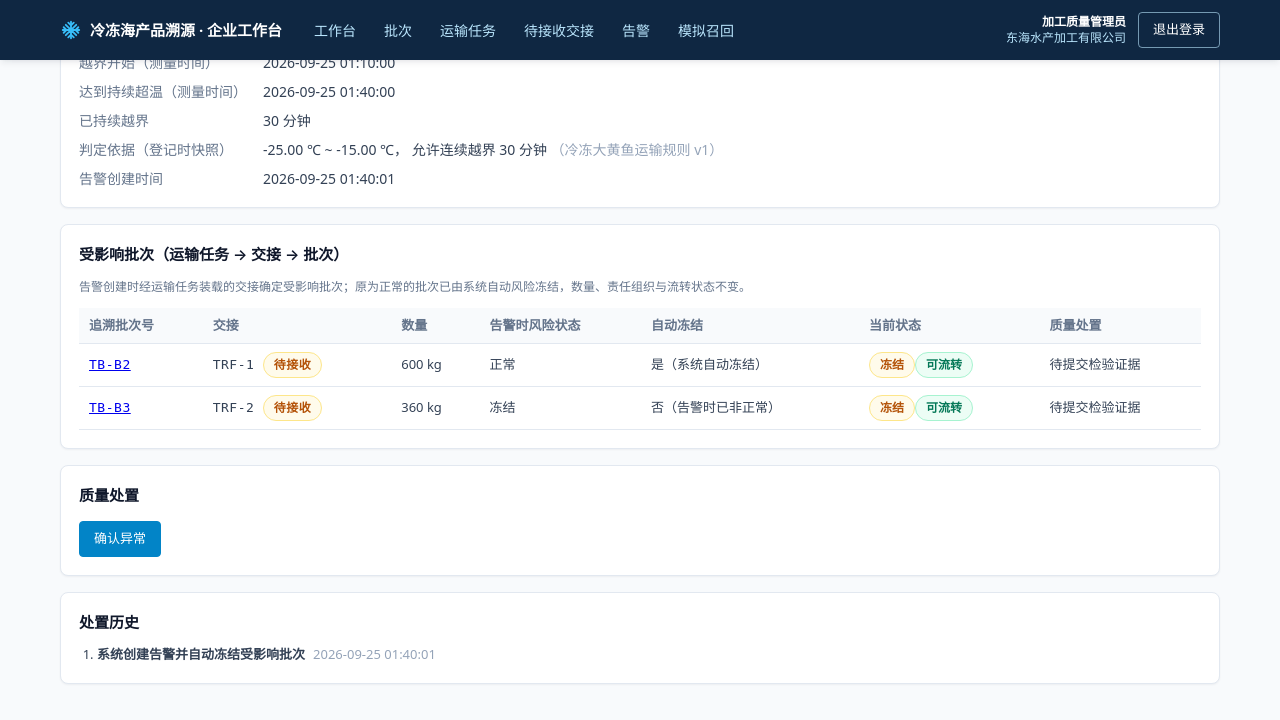
Test case: AlertDetailView › acknowledges after a second confirmation with CSRF + Idempotency-Key and a note-only body
(page scrolled)
Click the button with test id "alert-ack-open": (120, 538) [79,520,161,556]
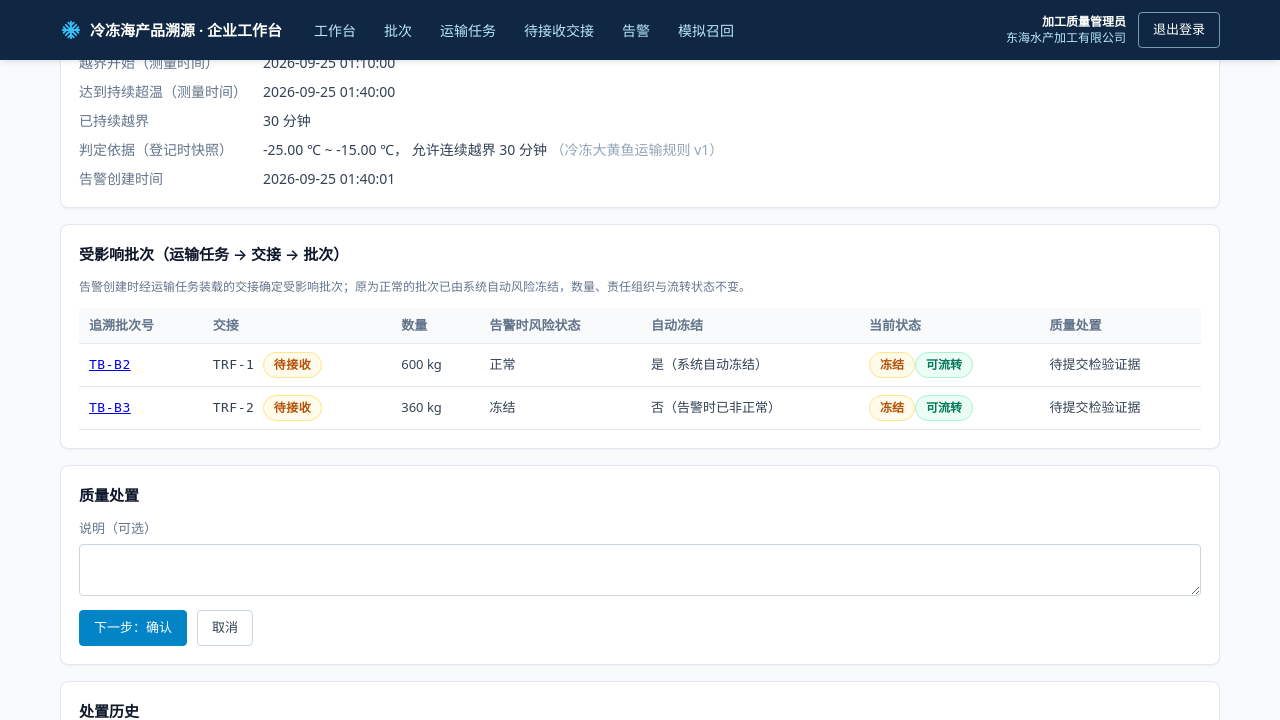
In the text box with test id "field-alert-ack-note": (640, 570) [79,544,1201,596], type "  安排复检  "
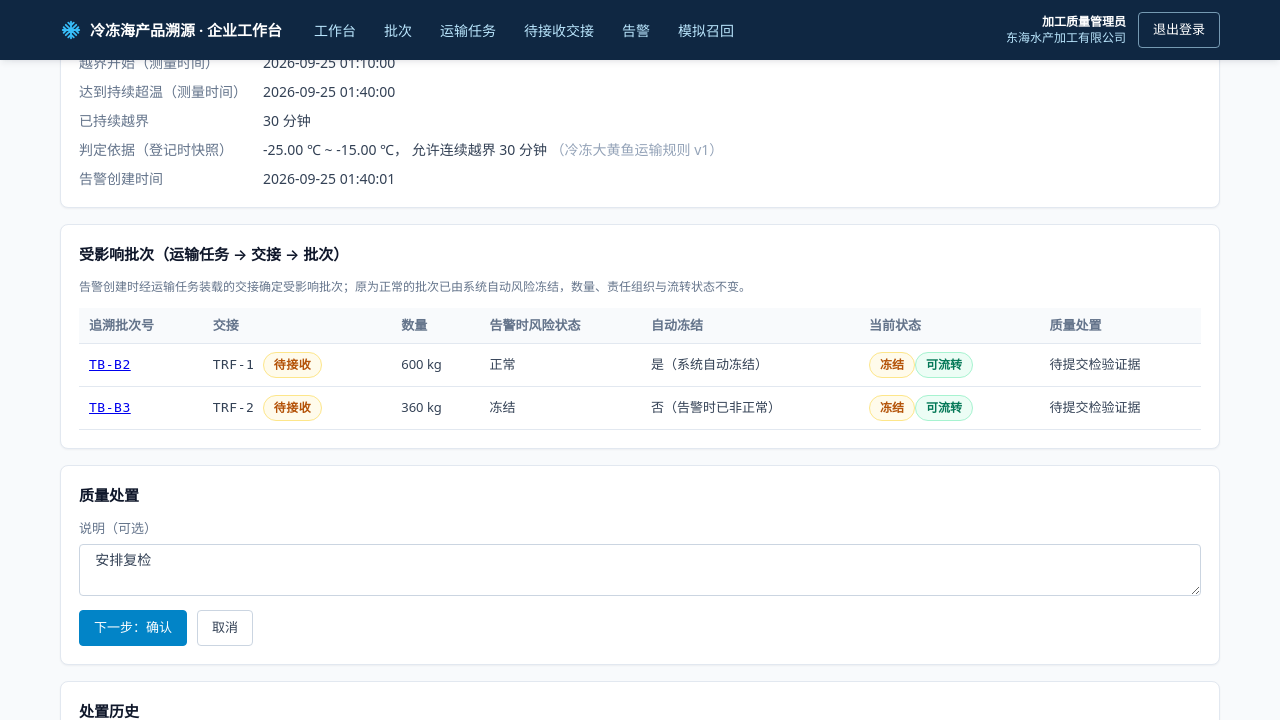
Submit the form with test id "alert-ack-form", box [79,518,1201,646]
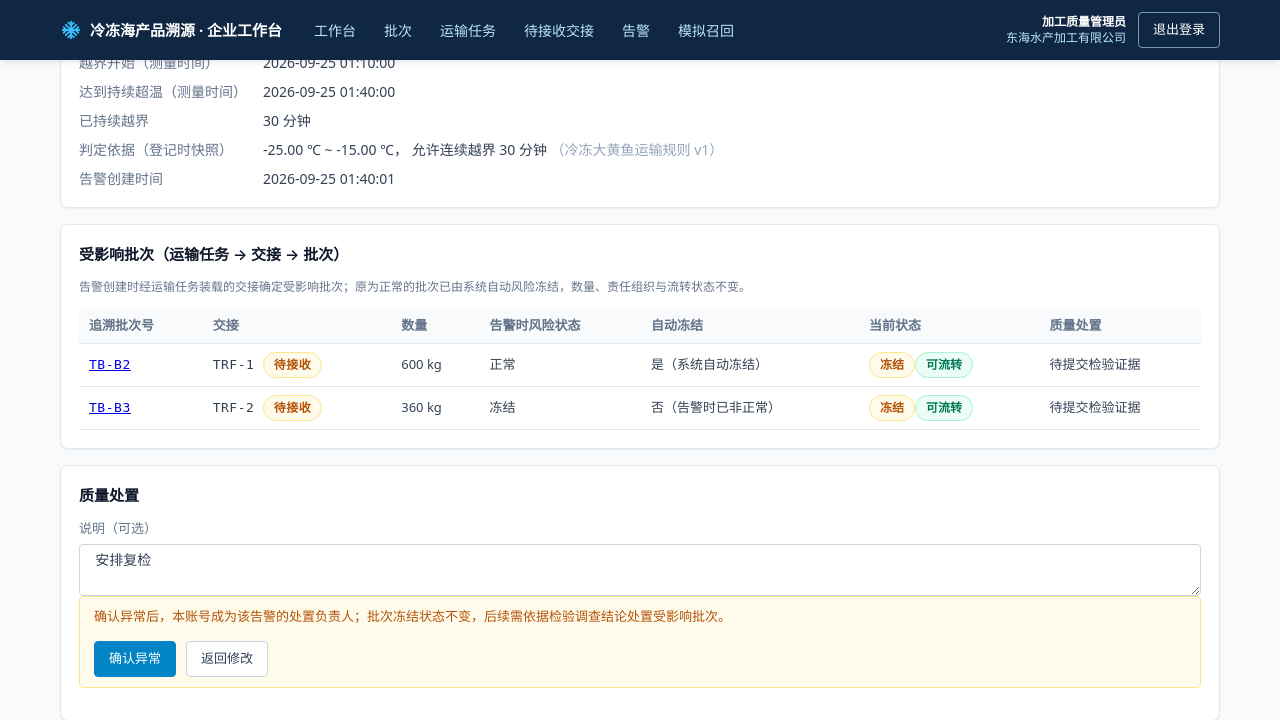
Result: the message with test id "alert-ack-confirm-panel" shows "处置负责人" at [94,607,731,625]
Click the button with test id "alert-ack-confirm": (135, 658) [94,640,176,676]
(page scrolled)
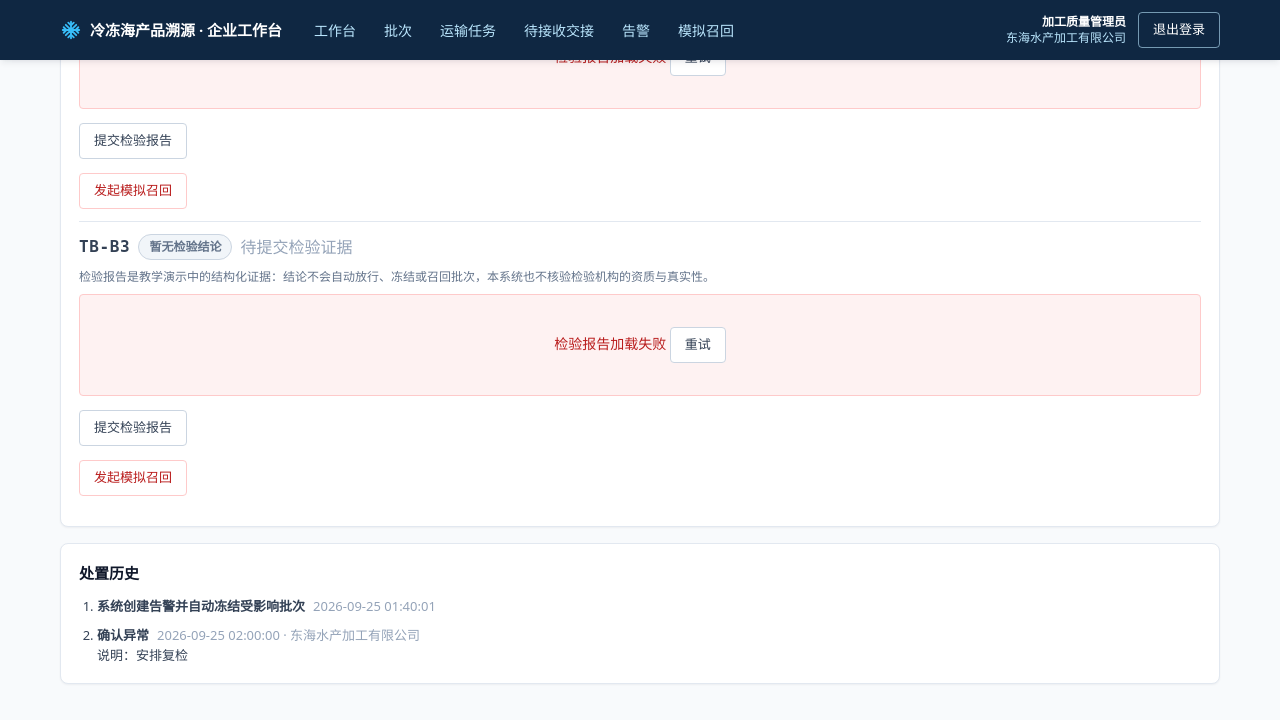
Result: the number of list items with test id "alert-history-row" is 2 at [97,596,436,614]; [97,626,420,664]
Result: the list item with test id "alert-history-row" shows "确认异常" at [97,626,149,644]
Result: the text with test id "alert-history-note" reads "说明：安排复检" at [97,646,188,664]
